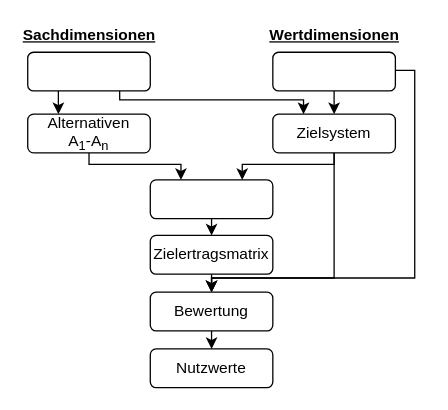
The diagram is 448 pixels wide and 410 high, and some of its shapes have lost their labels. The centre of each missing label's shape, as x and y in pixels:
"Kriterien K 1 -K n" belongs at [211,199].
"Problemstellung" belongs at [88,71].
"Wertsystem" belongs at [333,71].
